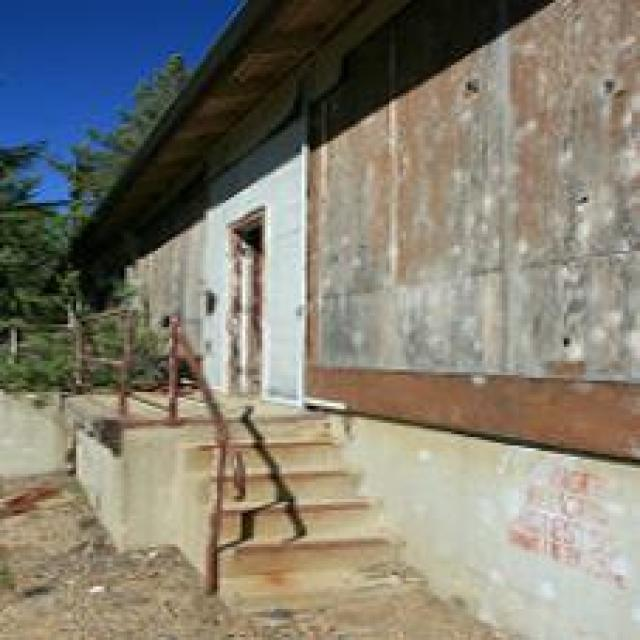stair: (186, 383, 403, 564)
